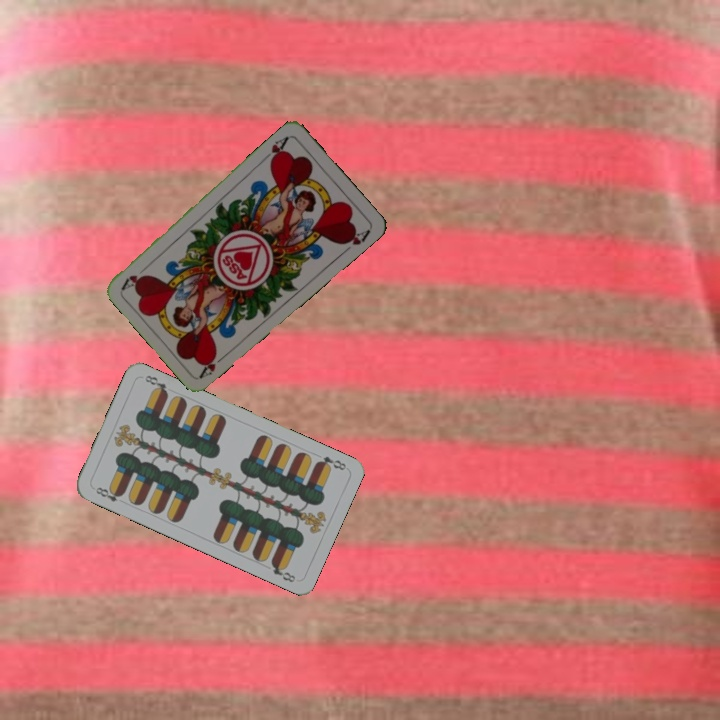E8: (312, 452, 349, 473), (92, 483, 126, 505)
HA: (258, 132, 291, 166), (196, 349, 230, 380)
